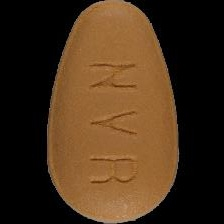49999-877: (0, 0, 224, 224)
